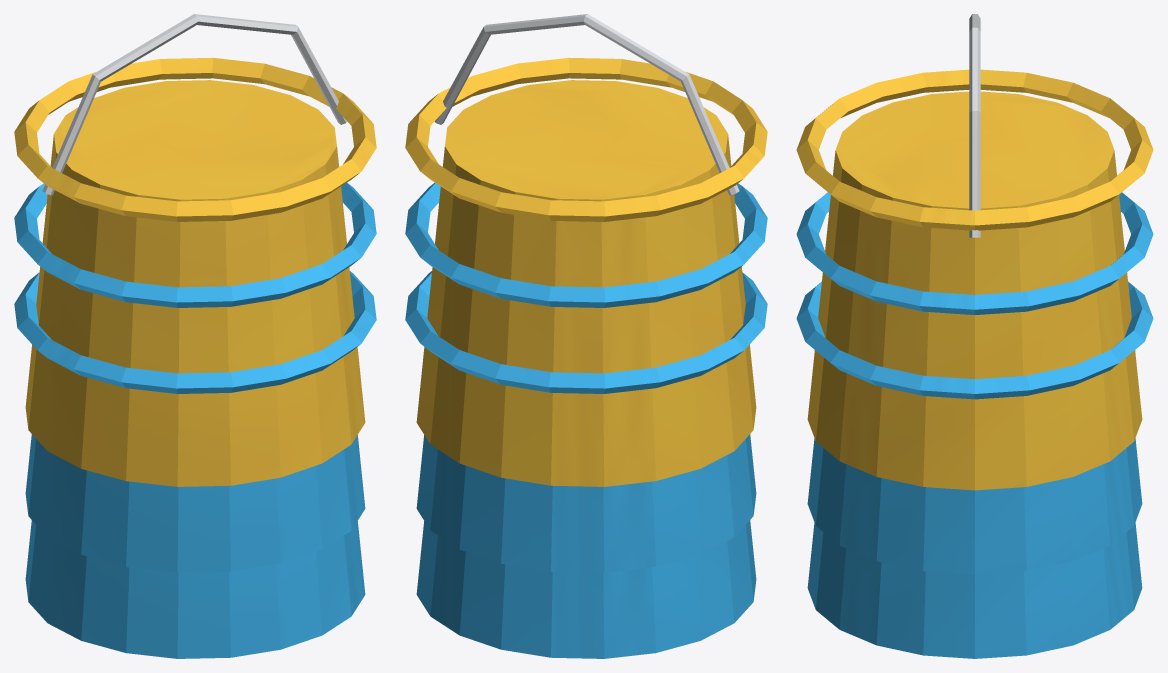
Rendered from SW_BucketStack.glb.
The picture shows the model from 3 angles, left to right: view 1: azimuth 30°, elevation 25°; view 2: azimuth 150°, elevation 25°; view 3: azimuth 270°, elevation 25°; orthographic projection. The views are drawn at different scales.
Parts seen in each view (by area): view 1: Buckets; view 2: Buckets; view 3: Buckets.
Part boxes in pixels (x1,y1,x2,y2): Buckets: [14, 14, 376, 658]; Buckets: [405, 14, 767, 658]; Buckets: [796, 14, 1153, 658].
Bounding box in the file's own units: 0.384 × 0.6652 × 0.384.
Materials: 2 (1 with a texture image).
